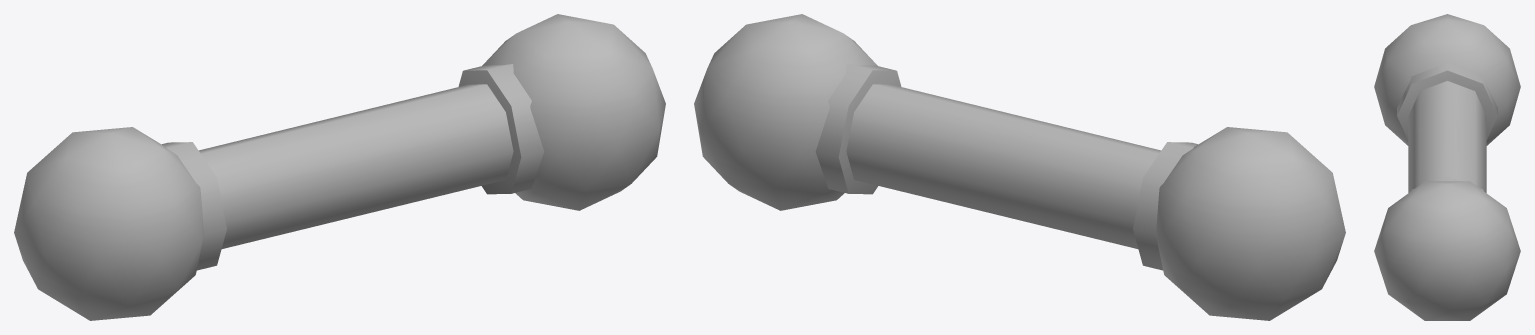
The model's file is stone_guard_045.glb.
The picture shows the model from 3 angles, left to right: view 1: azimuth 30°, elevation 25°; view 2: azimuth 150°, elevation 25°; view 3: azimuth 270°, elevation 25°; orthographic projection. The views are drawn at different scales.
Visible parts, largest first — view 1: stone_guard.045; view 2: stone_guard.045; view 3: stone_guard.045.
Boxes of the visible parts, bbox=[...] form: stone_guard.045: bbox=[14, 14, 665, 320]; stone_guard.045: bbox=[694, 14, 1345, 320]; stone_guard.045: bbox=[1374, 14, 1520, 320].
Size of the model in its own units: 7.5 by 2.08 by 2.08.
1 material, 1 textured.
